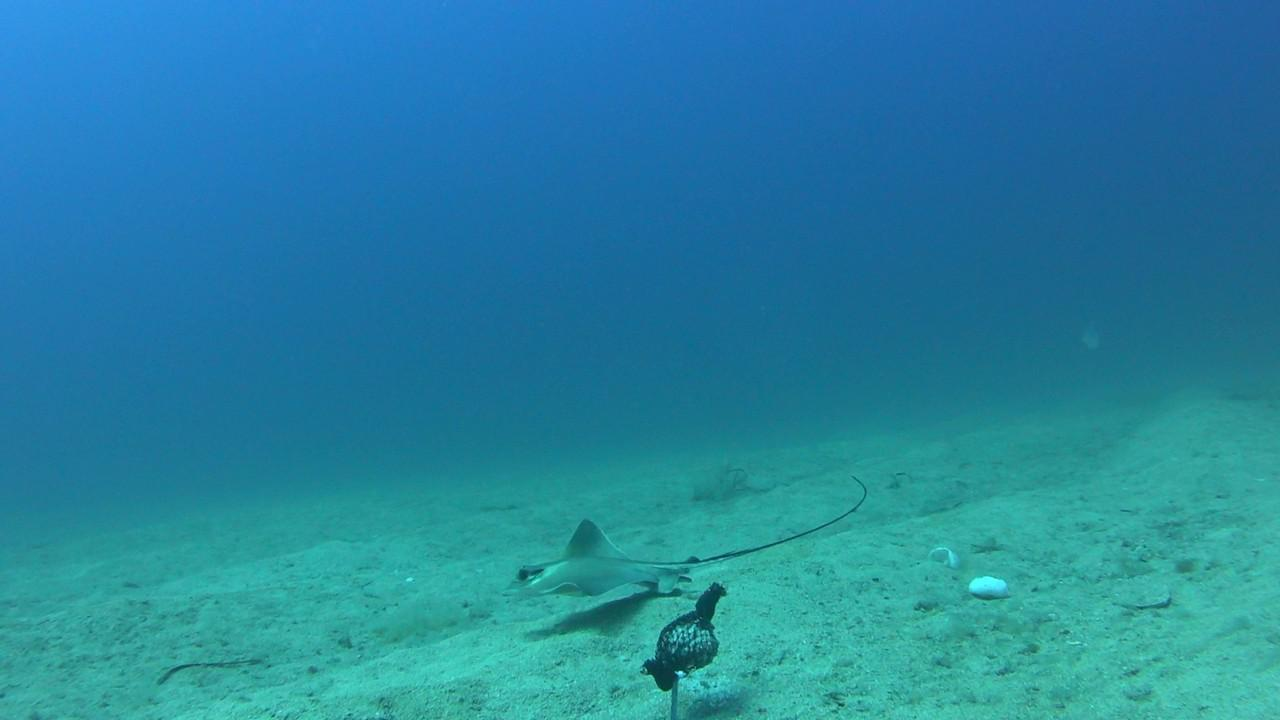myliobatis: (498, 463, 870, 612)
